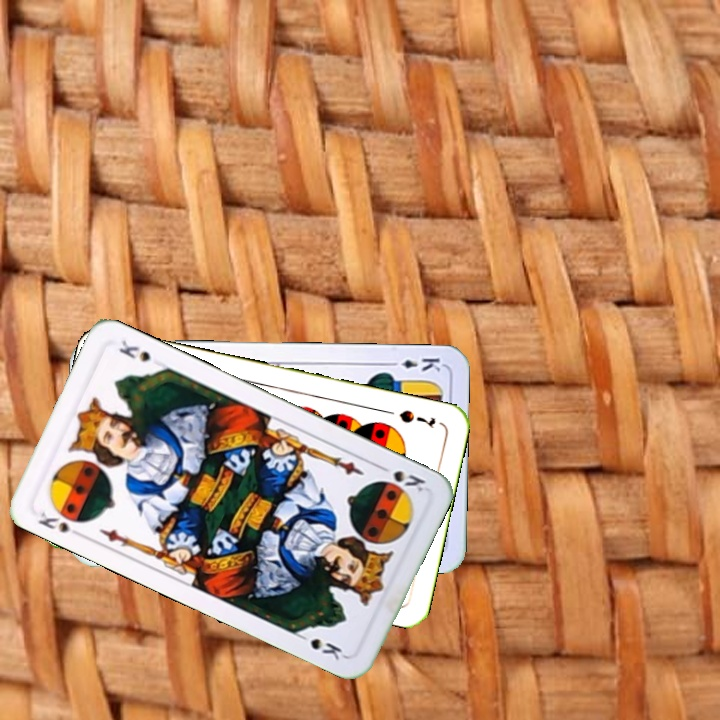EK: (384, 354, 443, 374)
S7: (395, 405, 439, 430)
SK: (373, 460, 428, 495), (34, 507, 86, 540)
